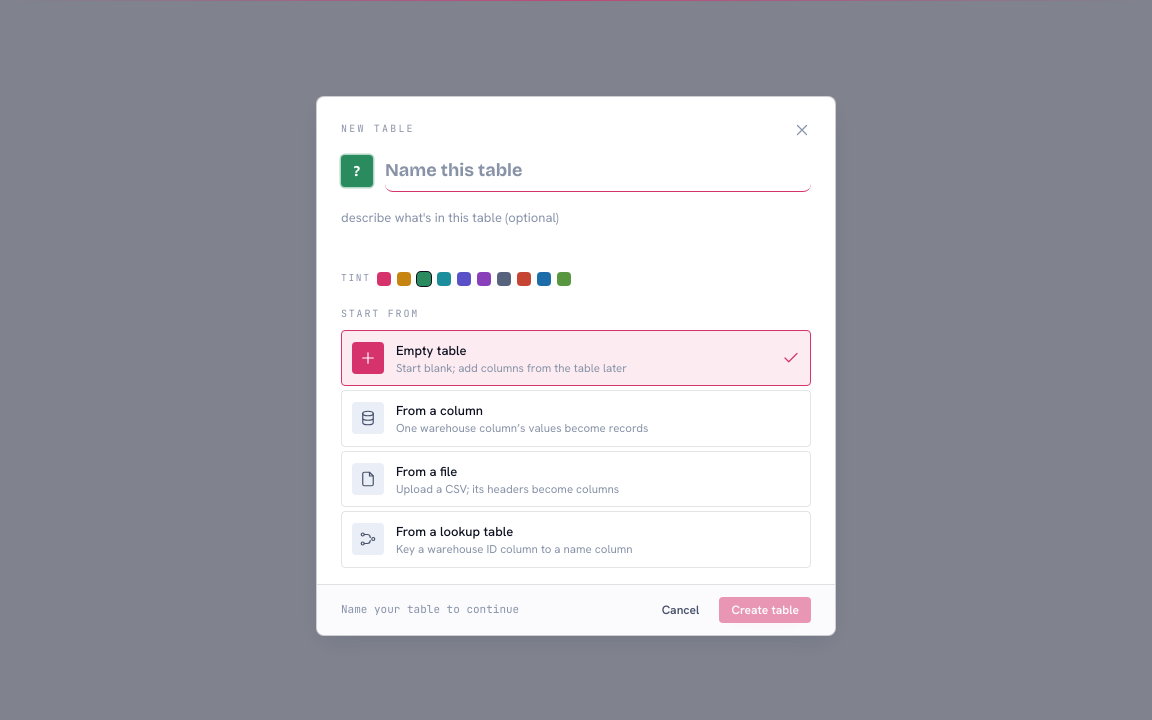
Test case: CreateTableModal — From a column picker with sources › lists available sources when useSources() returns items
Note: Switch to source mode
What coordinates should you click on to do the following:
click the radio button labelled "From a column One warehouse column’s values become records"
I would click on:
 (576, 418)
Its box is [341,390,811,447].
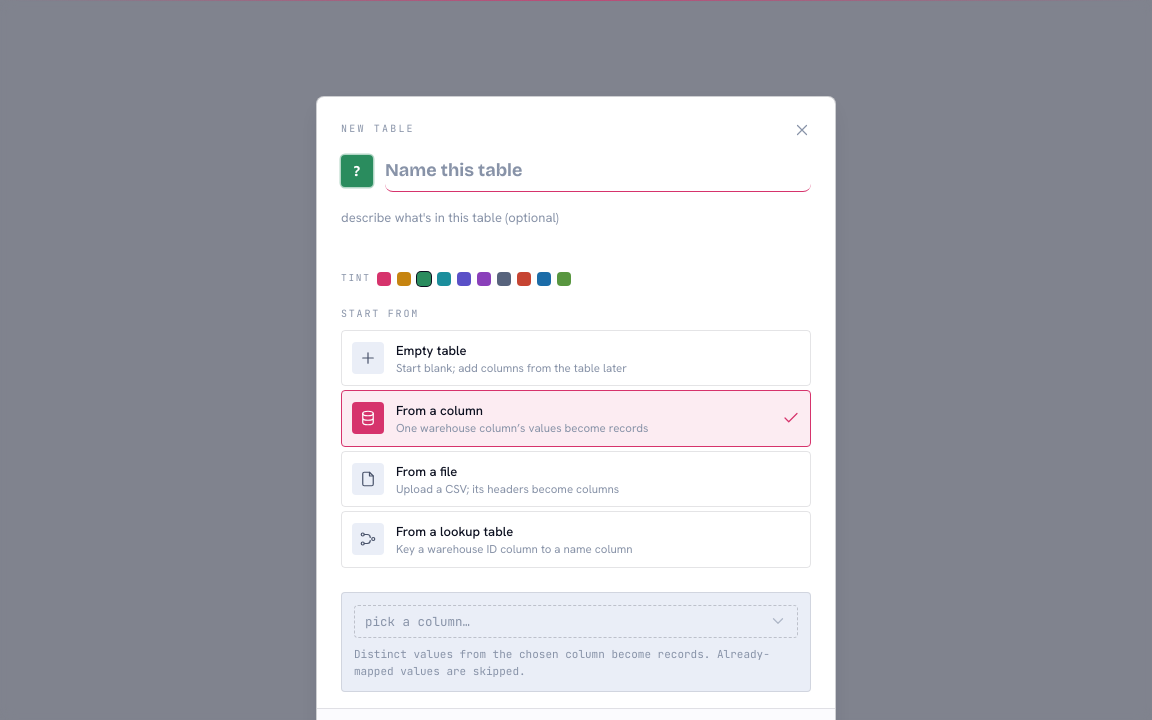
Expected: the text "pick a column…" is shown, [365,612,470,631]
